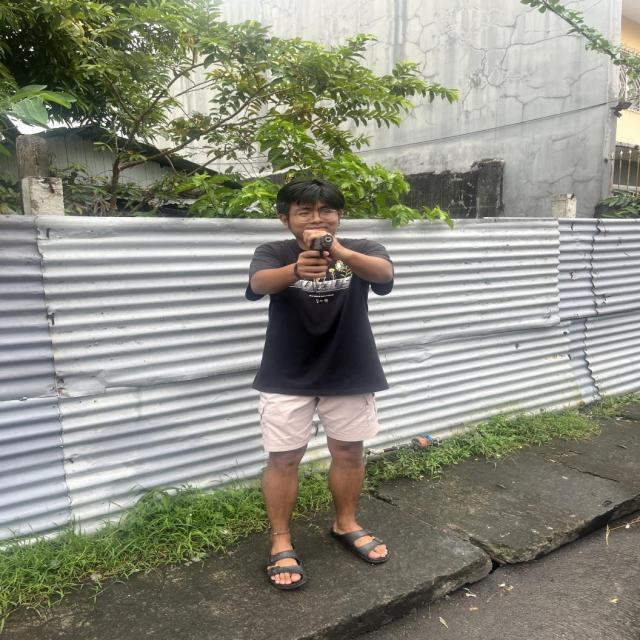pistol: (297, 214, 341, 269)
